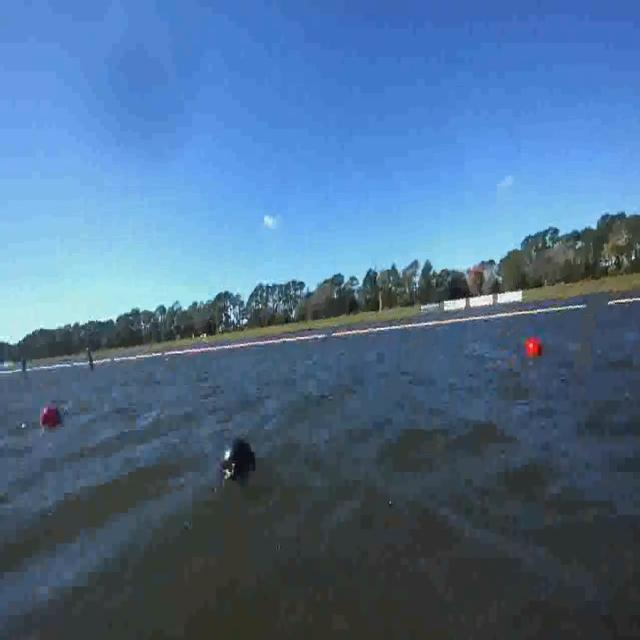black-buoy: (221, 434, 256, 476)
red-buoy: (40, 406, 60, 431), (526, 338, 542, 358)
